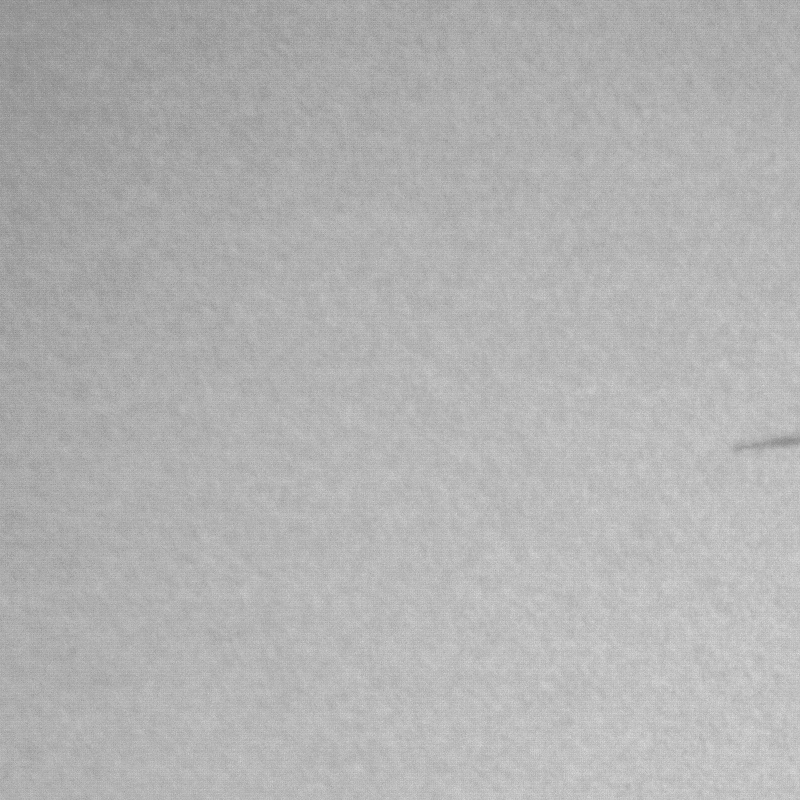defect: (736, 430, 797, 453)
